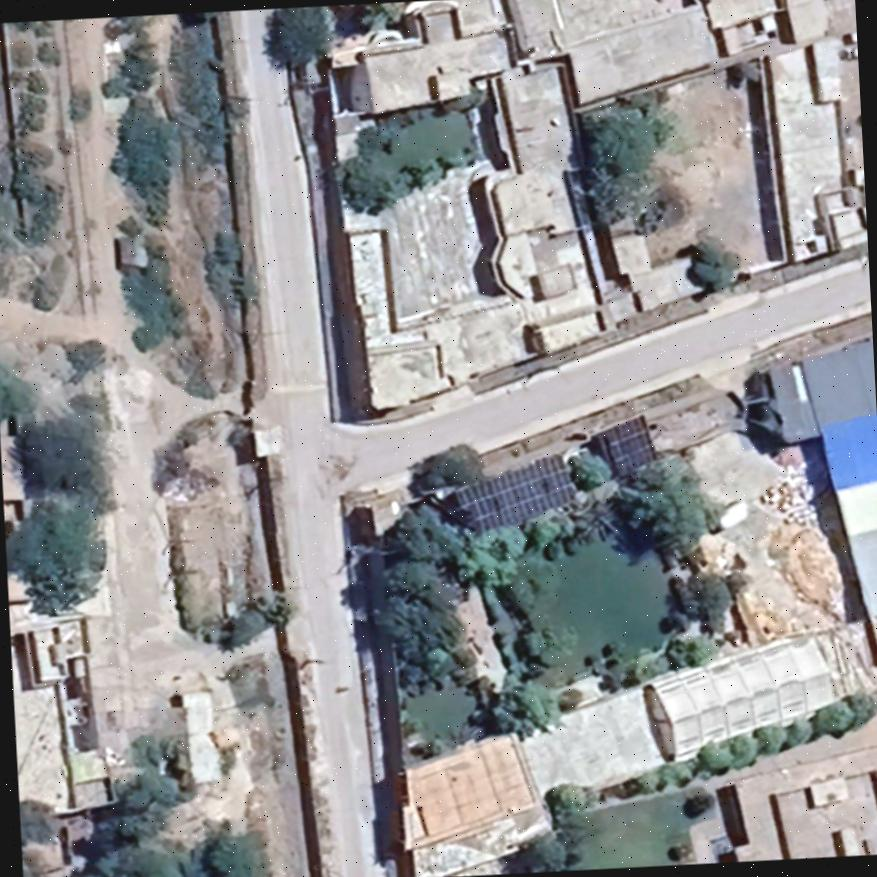Solarpanel: (451, 447, 578, 535), (588, 408, 664, 487)
